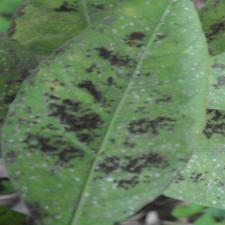Melanose: (26, 31, 198, 203)
